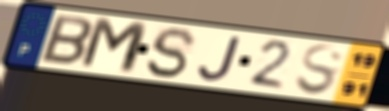2: (244, 38, 296, 94)
B: (37, 12, 95, 68)
J: (197, 34, 244, 83)
M: (76, 15, 152, 78)
S: (143, 25, 199, 80), (293, 43, 346, 98)
